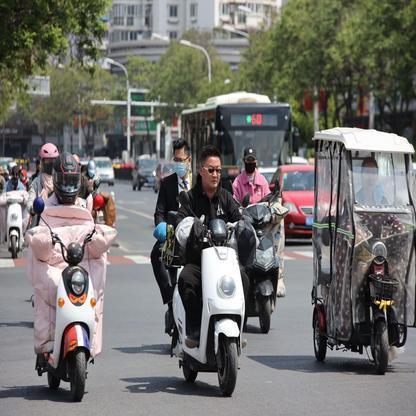target: (172, 144, 251, 395), (233, 147, 290, 333)
